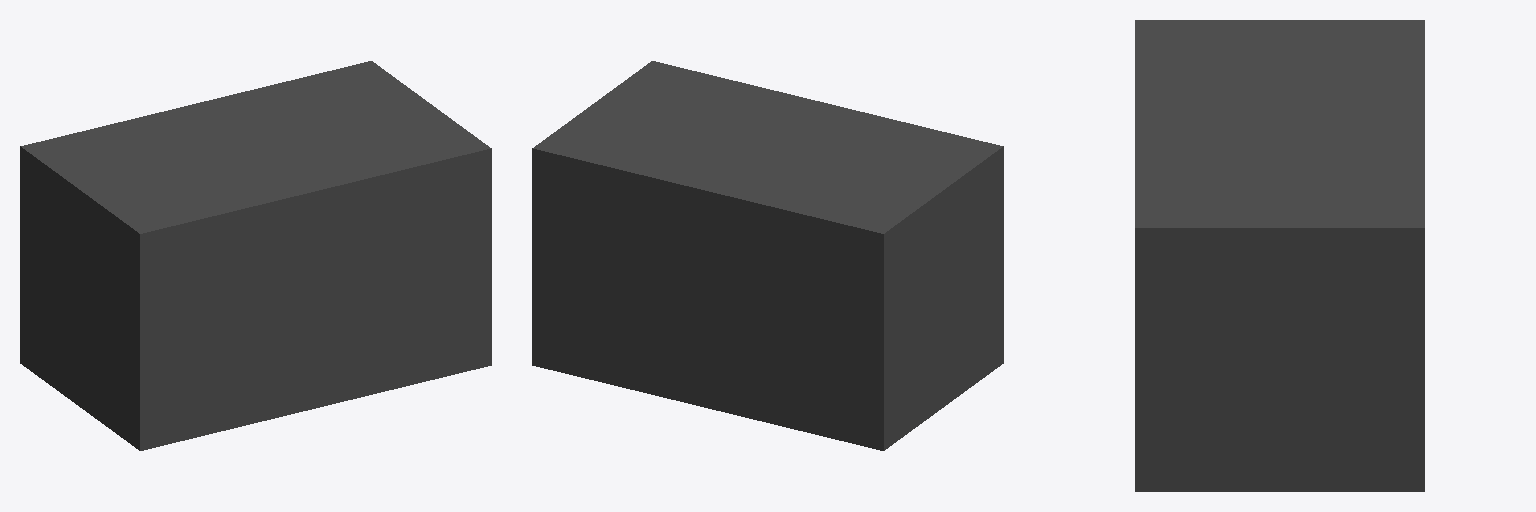
robot.urdf — model.urdf:
<?xml version="0.0" ?>
<robot name="model.urdf">

	<material name="grey">
		<color rgba="0.35 0.35 0.35 1"/>
	</material>

	<link name="baseLink">
		<inertial>
			<mass value="0.203"/>
			<inertia  ixx="0.00025586" ixy="0.00"  ixz="0.00" iyy="0.00025586" iyz="0.00" izz="0.00010235" />
		</inertial>
		<visual>
			<origin xyz="0 0 0" rpy="0 0 0"/>
			<geometry>
				<box size="0.11 0.065 0.065"/>
			</geometry>
			<material name="grey"/>
		</visual>
		<collision>
			<origin xyz="0 0 0" rpy="0 0 0"/>
			<geometry>
				<box size="0.11 0.065 0.065"/>
			</geometry>
		</collision>
	</link>
</robot>

--- What the picture shows (computed from the rendered views, not written in the file) ---
Views: 3 orthographic renders of the robot side by side, from view 1: azimuth 30°, elevation 25°; view 2: azimuth 150°, elevation 25°; view 3: azimuth 270°, elevation 25°.
Robot: model.urdf — 1 links, 0 joints (none); root link baseLink; default pose: every joint at zero.
Links seen in each view (by area): view 1: baseLink; view 2: baseLink; view 3: baseLink.
Link boxes in pixels (x1,y1,x2,y2): baseLink: (20,61,491,450); baseLink: (532,61,1003,450); baseLink: (1135,20,1424,491).
Size in the robot's own frame: 0.11 by 0.065 by 0.065 metres.
Geometry: primitives only (box / cylinder / sphere), no mesh files.